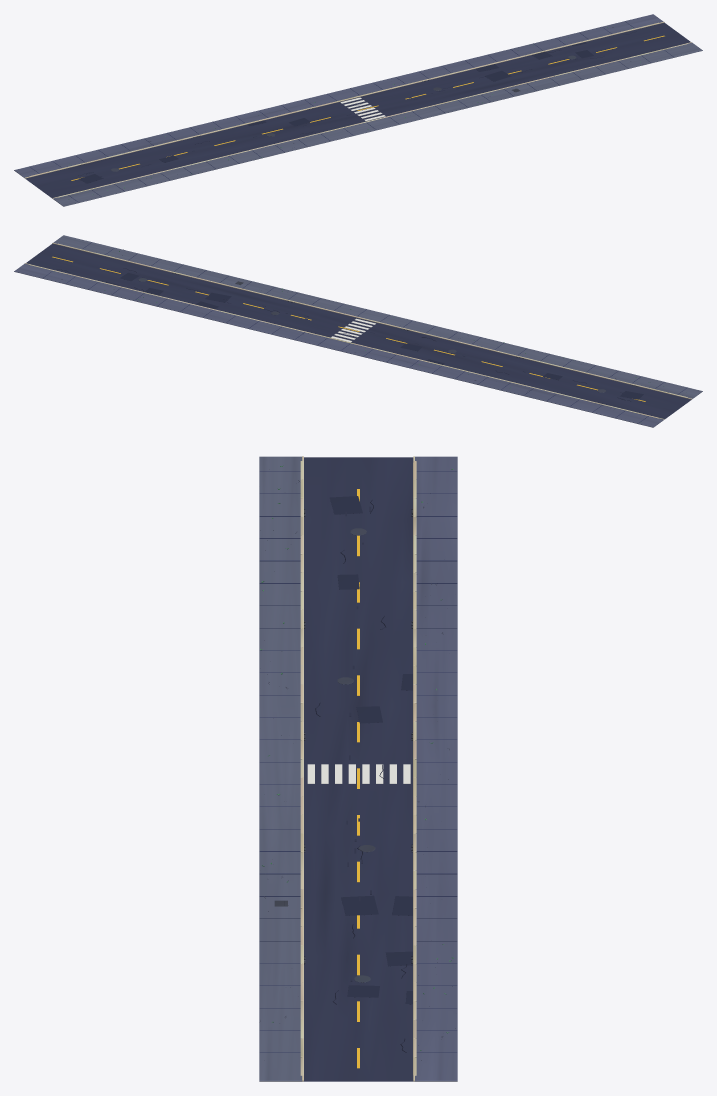
Rendered from SM_City_Boulevard.fbx.
The picture shows the model from 3 angles, top to bottom: view 1: azimuth 30°, elevation 25°; view 2: azimuth 150°, elevation 25°; view 3: azimuth 270°, elevation 25°; orthographic projection. The views are drawn at different scales.
Parts seen in each view (by area): view 1: SM_City_Boulevard; view 2: SM_City_Boulevard; view 3: SM_City_Boulevard.
Part boxes in pixels (left/top/right/bottom): SM_City_Boulevard: left=14, top=14, right=702, bottom=206; SM_City_Boulevard: left=14, top=235, right=702, bottom=427; SM_City_Boulevard: left=259, top=456, right=457, bottom=1081.
Size of the model in its own units: 6700 by 12.49 by 900.
